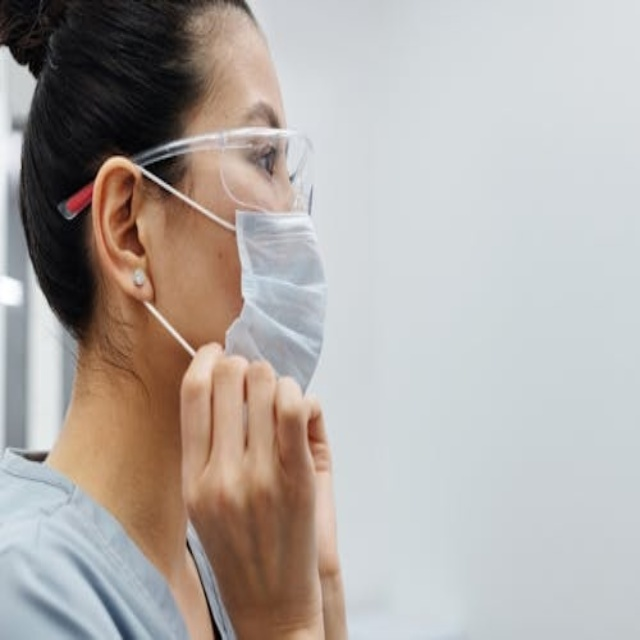Gafas: (59, 128, 318, 227)
Mascara: (223, 199, 328, 396)
Sin_guantes: (178, 344, 331, 638)
